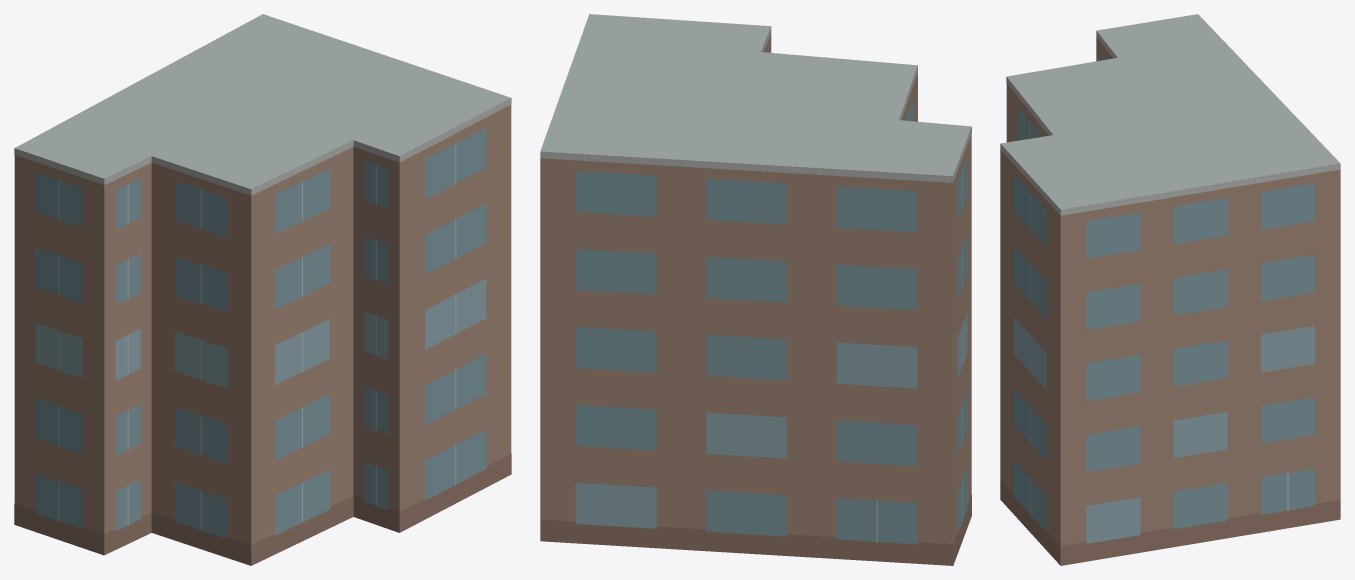
The model's file is survey-upis-32856656.glb.
3 renders of one model, left to right at view 1: azimuth 30°, elevation 25°; view 2: azimuth 150°, elevation 25°; view 3: azimuth 270°, elevation 25°, orthographic. The views are drawn at different scales.
Parts seen in each view (by area): view 1: survey-upis-32856656.tmp; view 2: survey-upis-32856656.tmp; view 3: survey-upis-32856656.tmp.
Boxes of the visible parts, x1,y1,x2,y2 form: survey-upis-32856656.tmp: [14, 14, 511, 565]; survey-upis-32856656.tmp: [540, 14, 971, 565]; survey-upis-32856656.tmp: [1000, 14, 1340, 565].
Bounding box in the file's own units: 16.69 × 14.15 × 12.26.
